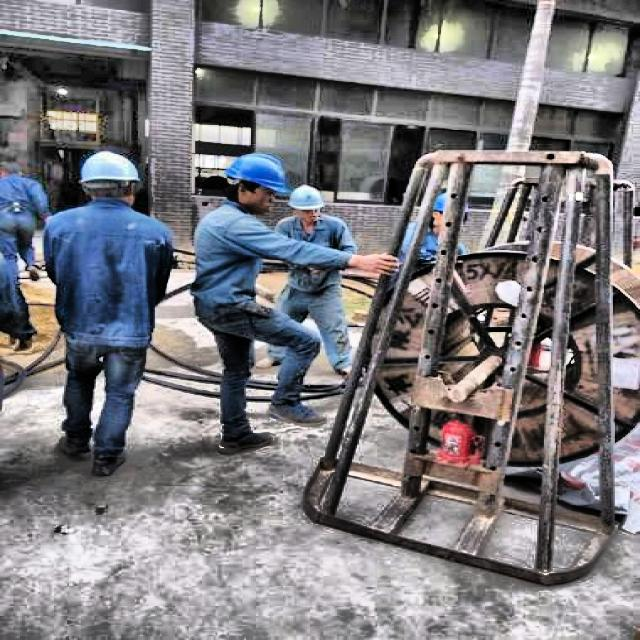helmet: (221, 149, 291, 213), (74, 150, 147, 207), (286, 183, 325, 225)
